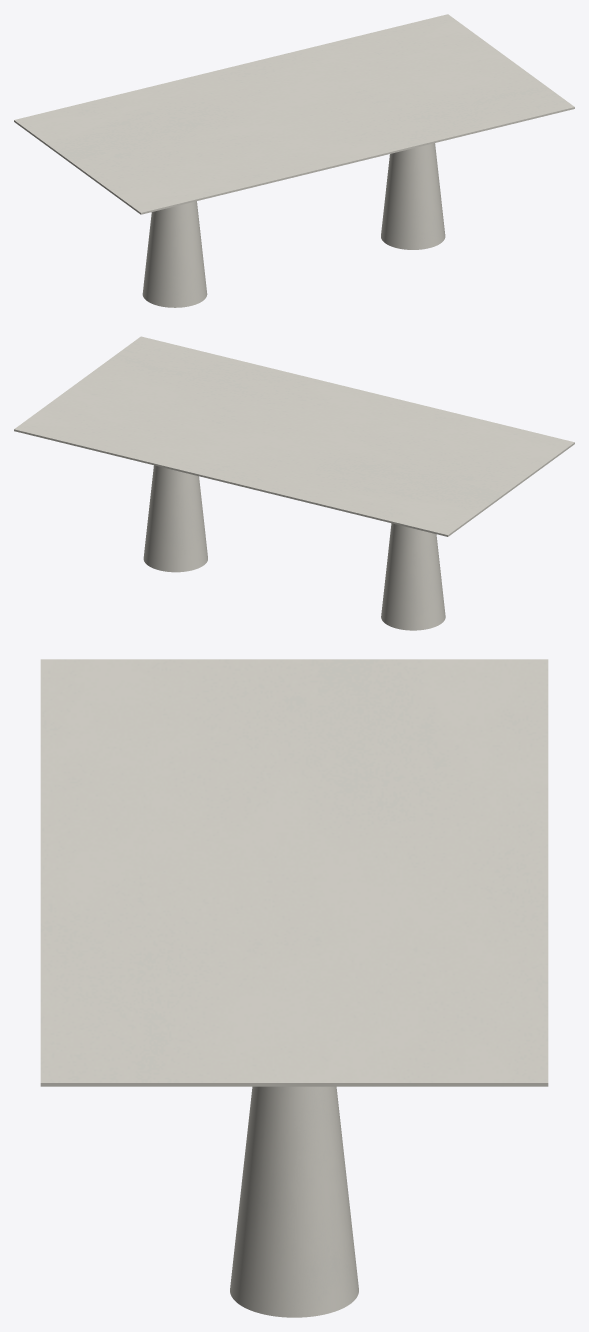
The model's file is pale_recta_facet_pebble.glb.
The picture shows the model from 3 angles, top to bottom: view 1: azimuth 30°, elevation 25°; view 2: azimuth 150°, elevation 25°; view 3: azimuth 270°, elevation 25°; orthographic projection. The views are drawn at different scales.
Visible parts, largest first — view 1: facet_recta, pebble; view 2: facet_recta, pebble; view 3: facet_recta, pebble.
Part boxes in pixels (x1=…): facet_recta: x1=14, y1=14, x2=574, y2=214; pebble: x1=142, y1=143, x2=445, y2=307; facet_recta: x1=14, y1=336, x2=574, y2=536; pebble: x1=143, y1=465, x2=445, y2=630; facet_recta: x1=40, y1=659, x2=548, y2=1086; pebble: x1=230, y1=1086, x2=358, y2=1317.
Size of the model in its own units: 7.5 by 2.51 by 3.8.
Materials: 1 (1 with a texture image).
